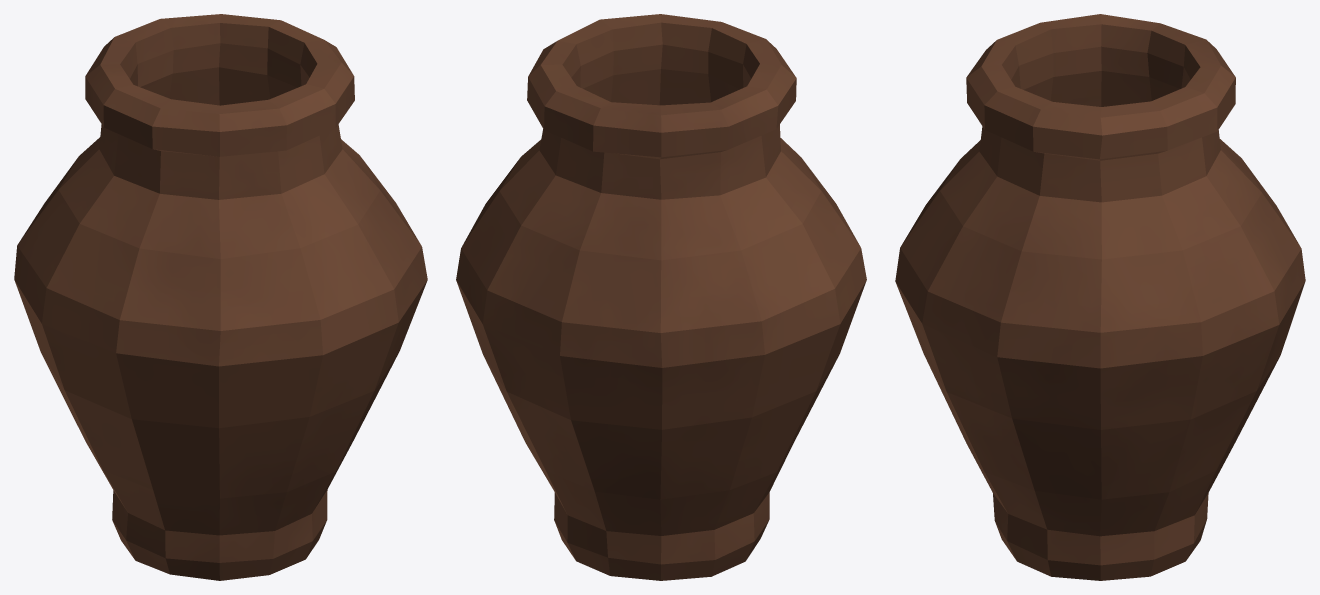
The model's file is pot_clay_01_godot.glb.
The picture shows the model from 3 angles, left to right: view 1: azimuth 30°, elevation 25°; view 2: azimuth 150°, elevation 25°; view 3: azimuth 270°, elevation 25°; orthographic projection.
Parts seen in each view (by area): view 1: pot_clay_01; view 2: pot_clay_01; view 3: pot_clay_01.
Part boxes in pixels (<box>): pot_clay_01: <box>14,14,427,580</box>; pot_clay_01: <box>456,14,866,580</box>; pot_clay_01: <box>895,14,1305,580</box>.
Size of what is drawn, in the model's own units: 0.4608 by 0.5877 by 0.4591.
1 material, 1 textured.
